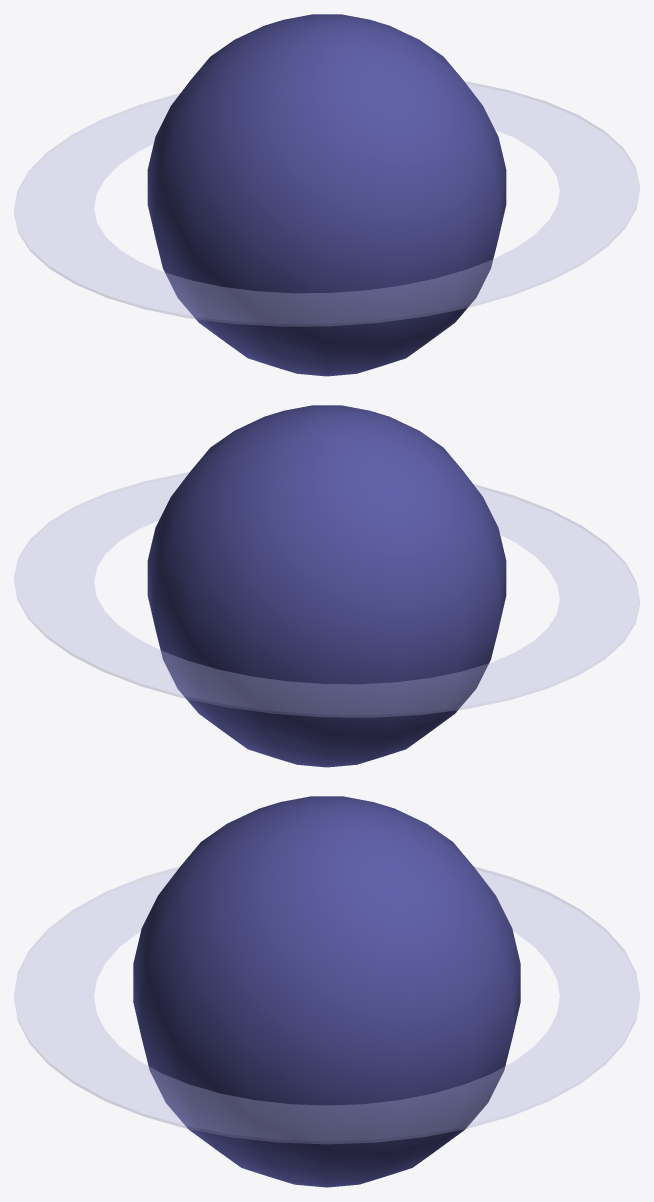
Rendered from Planet1.fbx.
The picture shows the model from 3 angles, top to bottom: view 1: azimuth 30°, elevation 25°; view 2: azimuth 150°, elevation 25°; view 3: azimuth 270°, elevation 25°; orthographic projection. The views are drawn at different scales.
Visible parts, largest first — view 1: pSphere1, pTorus1; view 2: pSphere1, pTorus1; view 3: pSphere1, pTorus1.
Part boxes in pixels (x1,y1,x2,y2): pSphere1: [147, 14, 506, 376]; pTorus1: [14, 81, 639, 326]; pSphere1: [147, 405, 506, 767]; pTorus1: [14, 472, 639, 717]; pSphere1: [133, 796, 520, 1187]; pTorus1: [14, 866, 639, 1143].
Bounding box in the file's own units: 25.93 × 14.68 × 23.45.
